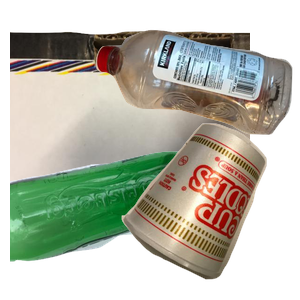cardboard: (10, 29, 250, 209)
glass: (10, 149, 203, 300)
plastic: (93, 27, 300, 154)
trash: (119, 121, 300, 300)
